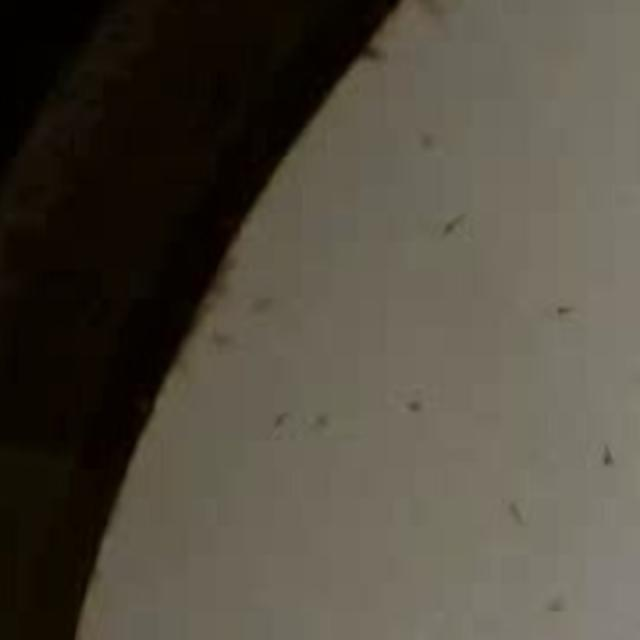shrimp-seed: (483, 483, 533, 538), (591, 424, 628, 489), (539, 292, 596, 324), (443, 196, 477, 244)
